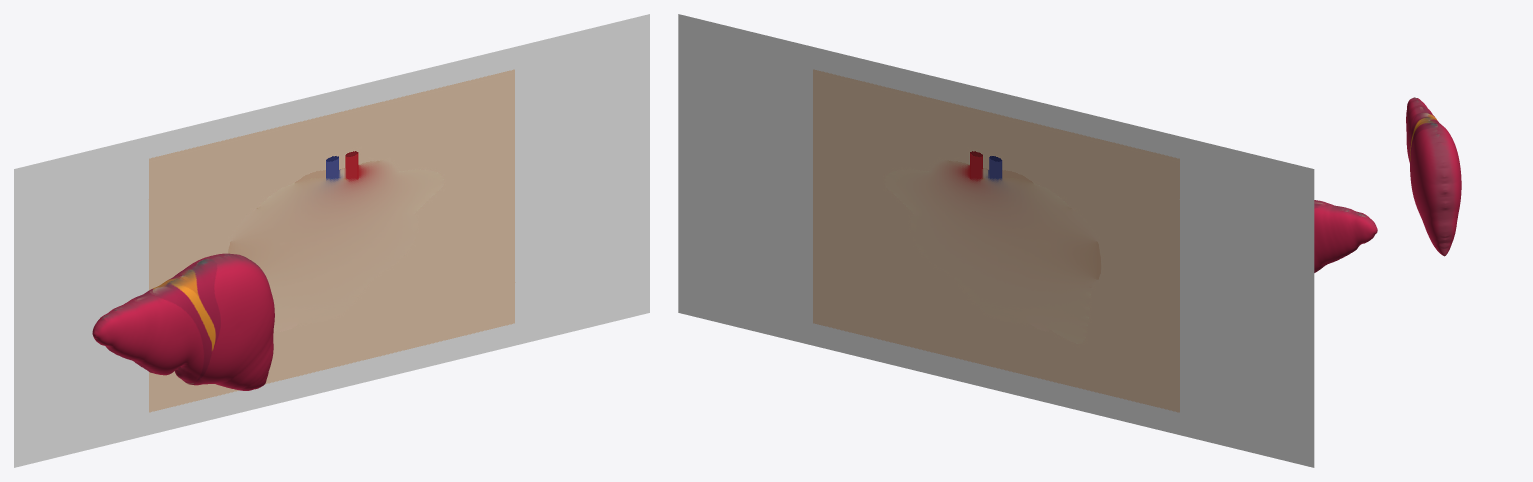
The model's file is asset.glb.
3 views of the same model, side by side, from view 1: azimuth 30°, elevation 25°; view 2: azimuth 150°, elevation 25°; view 3: azimuth 270°, elevation 25° (orthographic). The views are drawn at different scales.
Parts seen in each view (by area): view 1: mesh_id1, mesh_id32; view 2: mesh_id1, mesh_id32; view 3: mesh_id32.
Boxes of the visible parts, x1,y1,x2,y2 form: mesh_id1: [14, 14, 649, 467]; mesh_id32: [92, 253, 274, 390]; mesh_id1: [678, 14, 1314, 467]; mesh_id32: [1314, 200, 1377, 272]; mesh_id32: [1406, 97, 1461, 256].
Bounding box in the file's own units: 1.22 × 0.547 × 0.2512.
2 materials, 2 textured.
